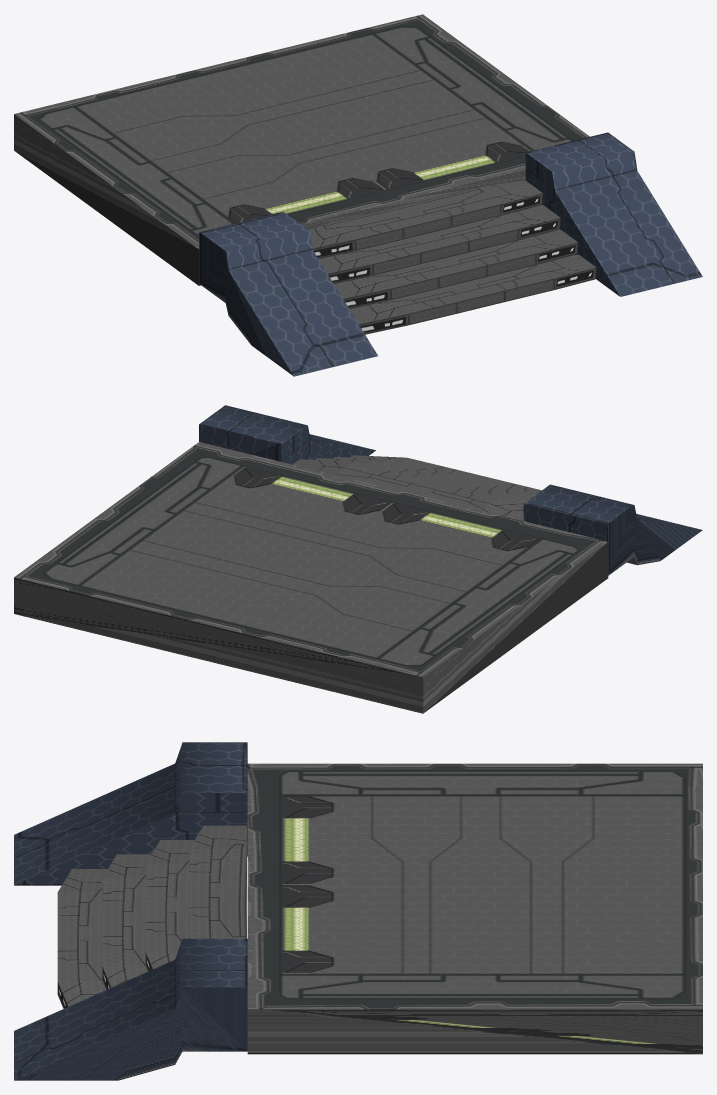
Rendered from Steps 02.fbx.
3 renders of one model, top to bottom at view 1: azimuth 30°, elevation 25°; view 2: azimuth 150°, elevation 25°; view 3: azimuth 270°, elevation 25°, orthographic. The views are drawn at different scales.
Parts seen in each view (by area): view 1: Steps 02; view 2: Steps 02; view 3: Steps 02.
Boxes of the visible parts, box(x1,y1,x2,y2) form: Steps 02: box(14, 14, 702, 376); Steps 02: box(14, 405, 702, 713); Steps 02: box(14, 742, 702, 1080).
Size of the model in its own units: 402 by 70.52 by 477.
